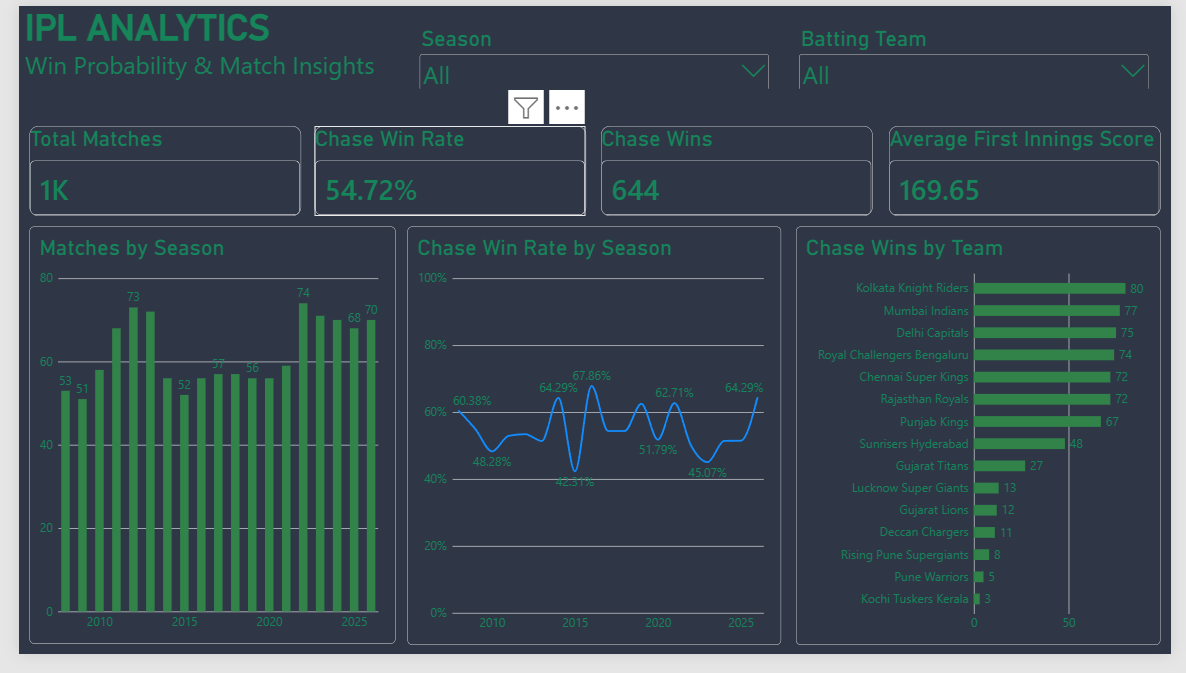

This screenshot's page, from the dashboard's own definition file:
{"tool":"powerbi","page":{"name":"IPL Overview","canvas":[1920,1080],"ordinal":0},"visuals":[{"type":"textbox","title":"IPL ANALYTICS","box":[10,0,617.5,180],"z":0},{"type":"cardVisual","title":"Total Matches","fields":{"Data":["second_innings.Total Matches"]},"box":[17.8,200,452.5,150],"z":1000},{"type":"cardVisual","title":"Chase Wins","fields":{"Data":["second_innings.Chase Wins"]},"box":[970,200,452.5,150],"z":2000},{"type":"cardVisual","title":"Chase Win Rate","fields":{"Data":["second_innings.Chase Win Rate"]},"box":[492.2,200,452.5,150],"z":3000},{"type":"cardVisual","title":"Average First Innings Score","fields":{"Data":["second_innings.Average First Innings Score"]},"box":[1450,200,452.5,150],"z":4000},{"type":"clusteredColumnChart","title":"Matches by Season","fields":{"Category":["Match.season"],"Y":["second_innings.Total Matches"]},"box":[17.5,367.5,610,695],"z":5000},{"type":"lineChart","title":"Chase Win Rate by Season","fields":{"Category":["Match.season"],"Y":["second_innings.Chase Win Rate"]},"box":[647.5,367.5,622.5,697.5],"z":6000},{"type":"clusteredBarChart","title":"Chase Wins by Team","fields":{"Category":["Match.batting_team"],"Y":["second_innings.Chase Wins"]},"box":[1295,367.5,607.5,697.5],"z":7000},{"type":"slicer","fields":{"Values":["Match.season"]},"box":[662.5,32.5,592.5,105],"z":8000},{"type":"slicer","fields":{"Values":["Match.batting_team"]},"box":[1295,32.5,592.5,105],"z":9000}]}

Visuals, with their boxes in screenshot pixels (x1, y1, x2, y2), scaled from the page's 1920x1080 canvas onto the 1186x673 screenshot:
"IPL ANALYTICS" textbox: (6,0,388,112)
"Total Matches" cardVisual: (11,125,291,218)
"Chase Wins" cardVisual: (599,125,879,218)
"Chase Win Rate" cardVisual: (304,125,584,218)
"Average First Innings Score" cardVisual: (896,125,1175,218)
"Matches by Season" clusteredColumnChart: (11,229,388,662)
"Chase Win Rate by Season" lineChart: (400,229,784,664)
"Chase Wins by Team" clusteredBarChart: (800,229,1175,664)
slicer - Match.season: (409,20,775,86)
slicer - Match.batting_team: (800,20,1166,86)
